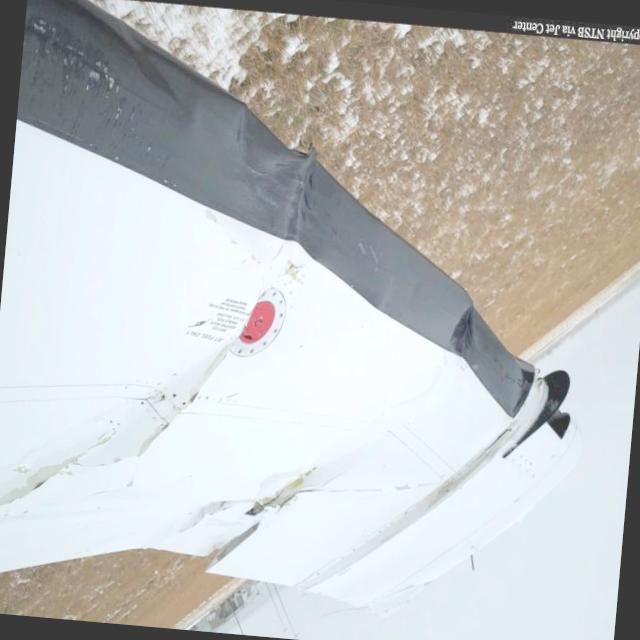crack: (175, 452, 318, 584), (132, 338, 234, 466), (0, 418, 113, 529)
